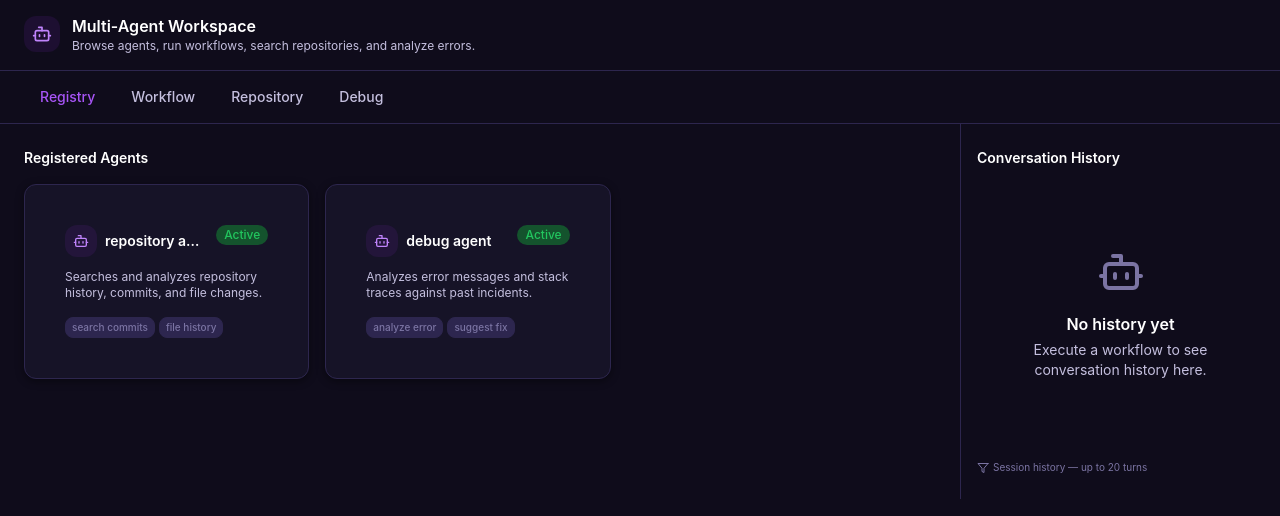
Test: AgentsPage › switches to workflow tab on click
The width and height of the screenshot is (1280, 516).
Click the tab "Workflow": point(163, 97) [115,79,211,115]
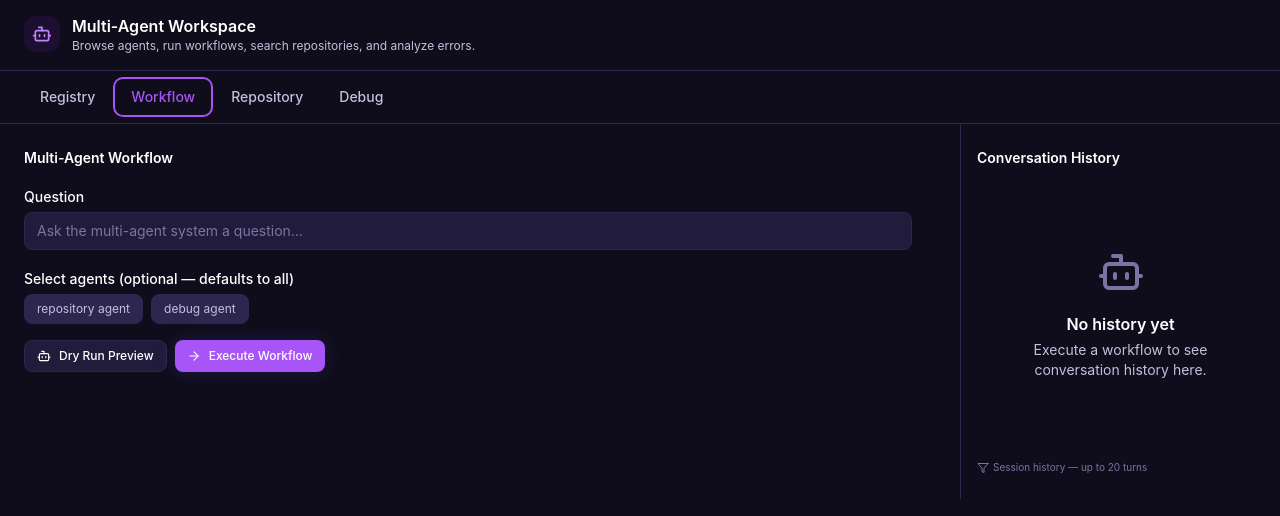
expect the element with test id "workflow-panel" is shown: met, box [24,184,912,372]
